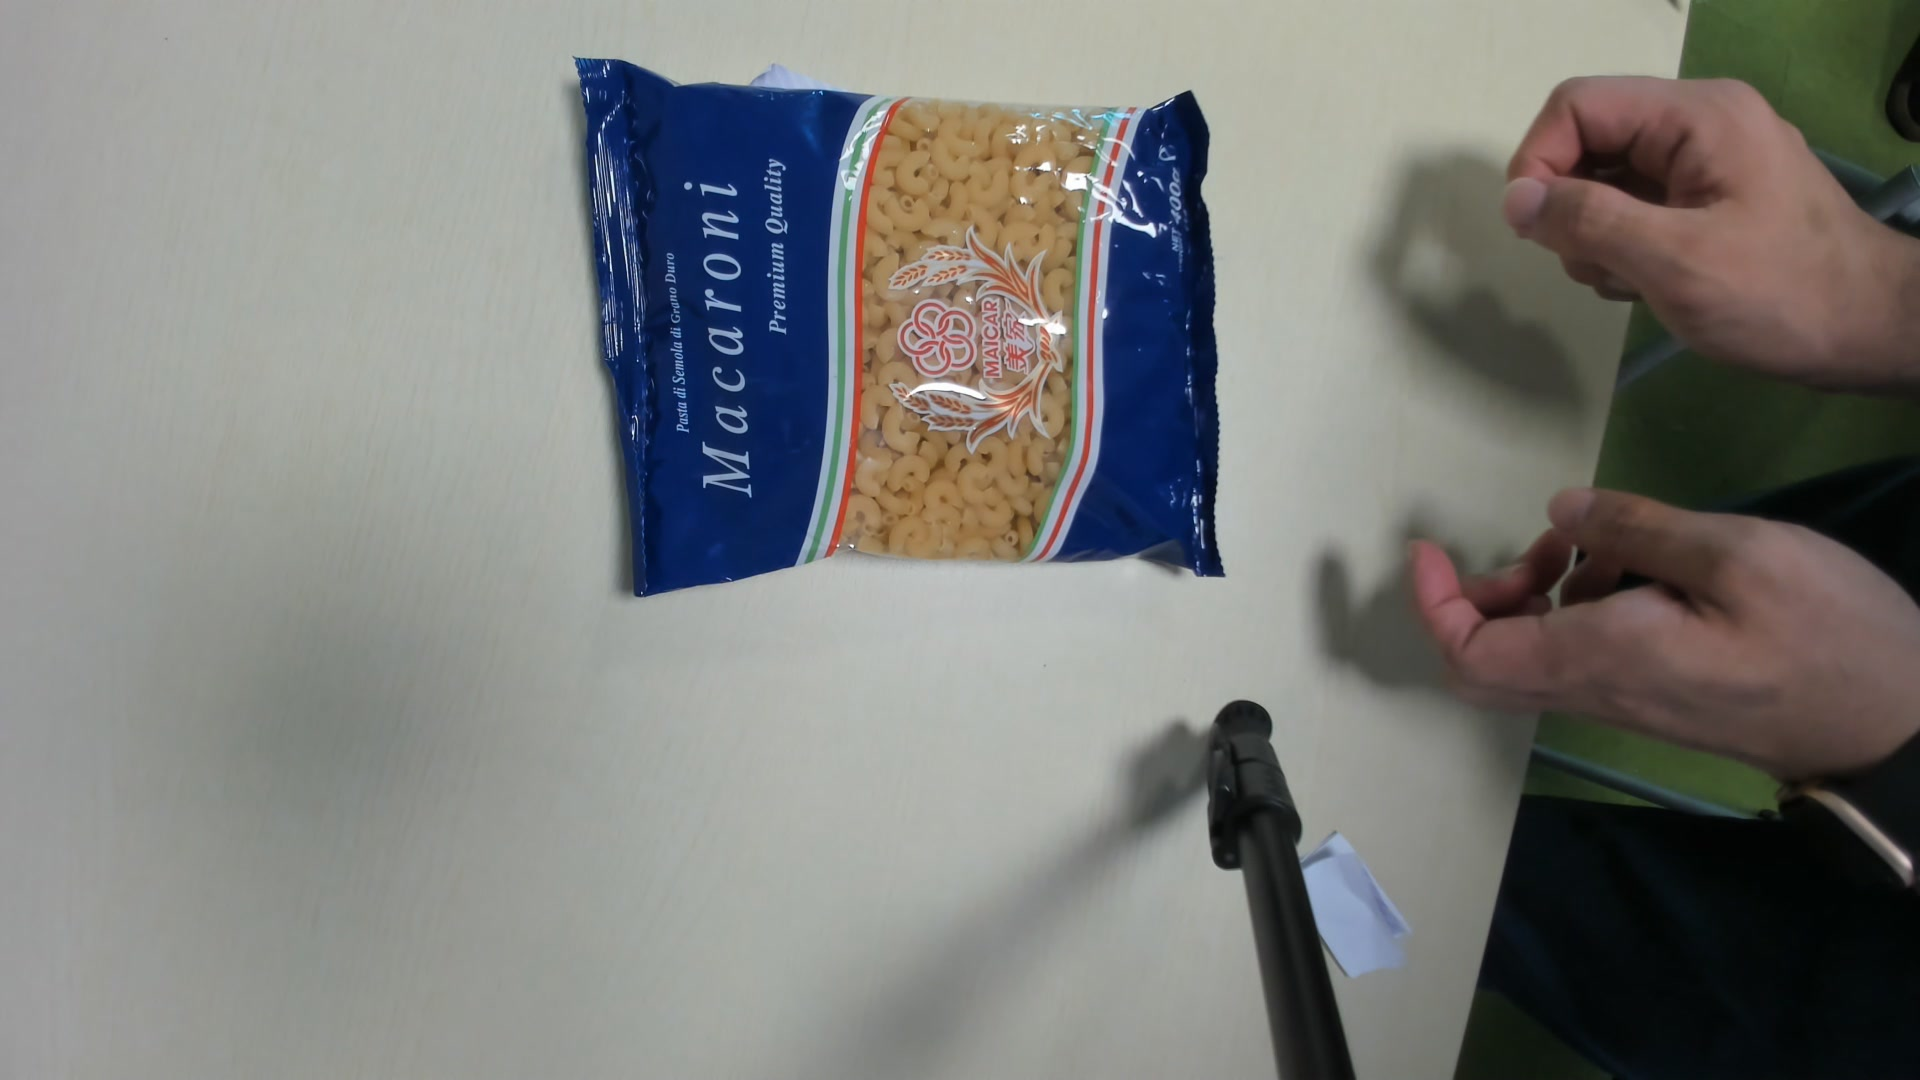Pasta_400-499g_Halal_NonHealthy: (583, 62, 1221, 585)
